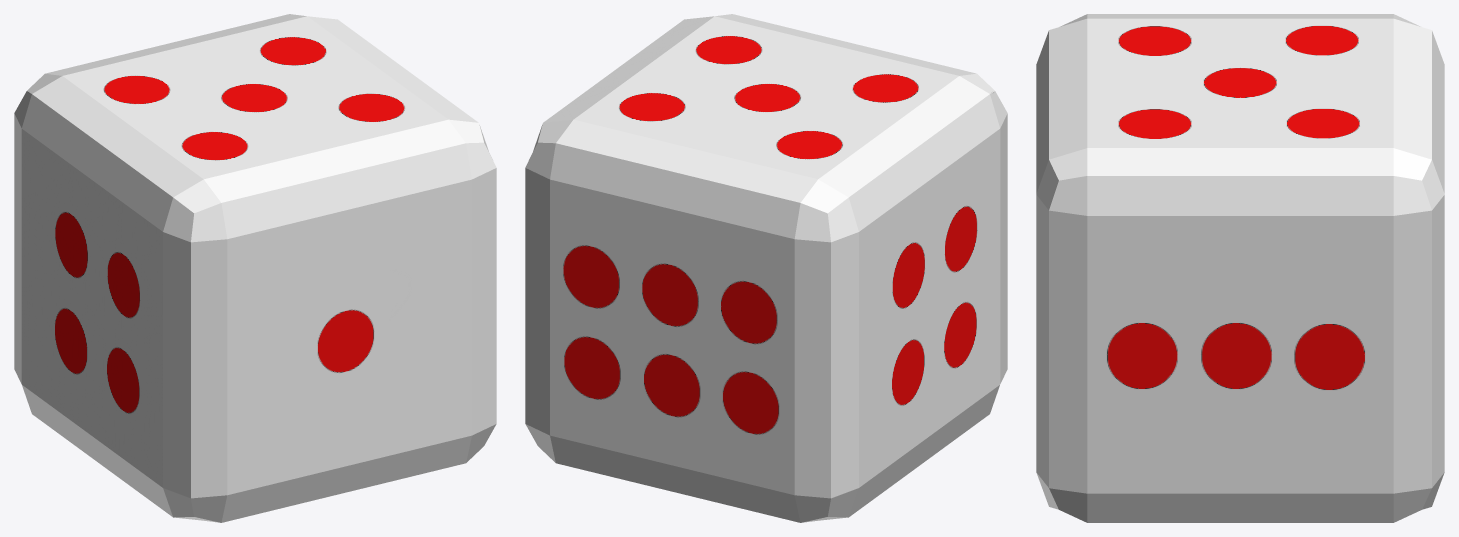
The model's file is Dice_White.obj.
3 views of the same model, side by side, from view 1: azimuth 30°, elevation 25°; view 2: azimuth 150°, elevation 25°; view 3: azimuth 270°, elevation 25° (orthographic). The views are drawn at different scales.
Visible parts, largest first — view 1: Cube; view 2: Cube; view 3: Cube.
Part boxes in pixels (left/top/right/bottom): Cube: left=14, top=14, right=496, bottom=522; Cube: left=525, top=14, right=1007, bottom=522; Cube: left=1036, top=14, right=1444, bottom=522.
Size of the model in its own units: 2 by 2 by 2.
1 material, 1 textured.
